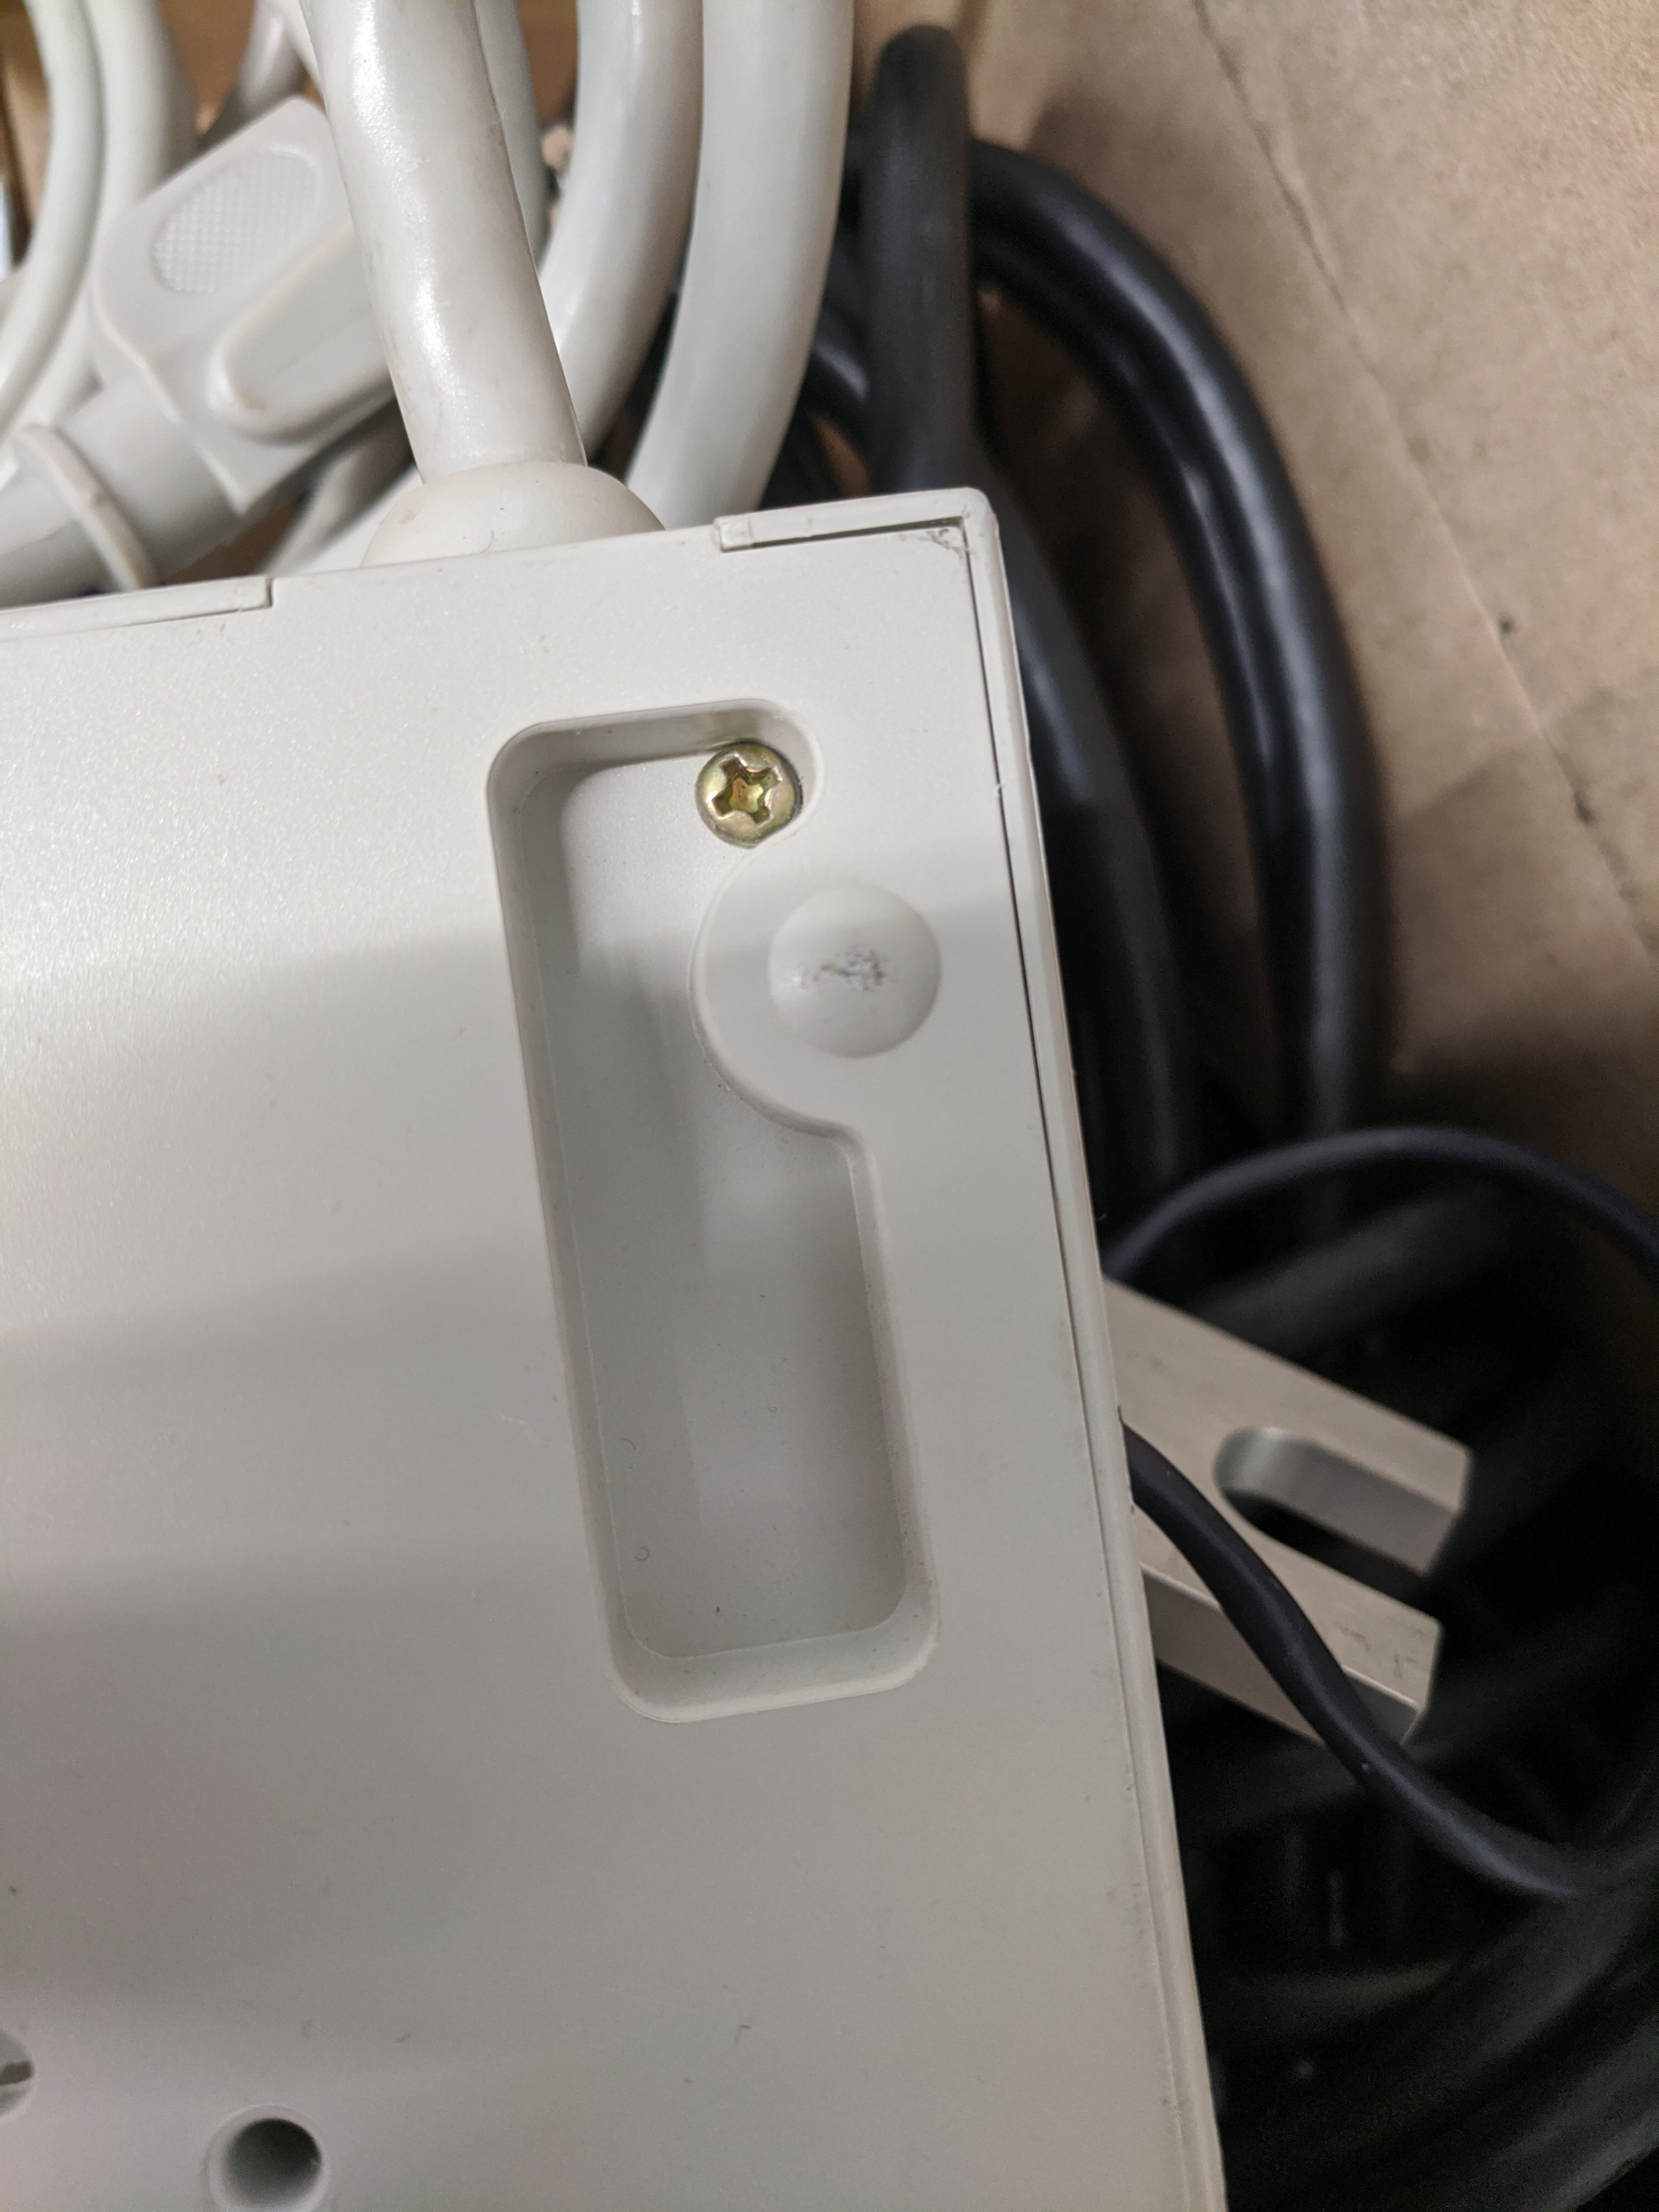cross_recessed_screw: (690, 730, 802, 850)
